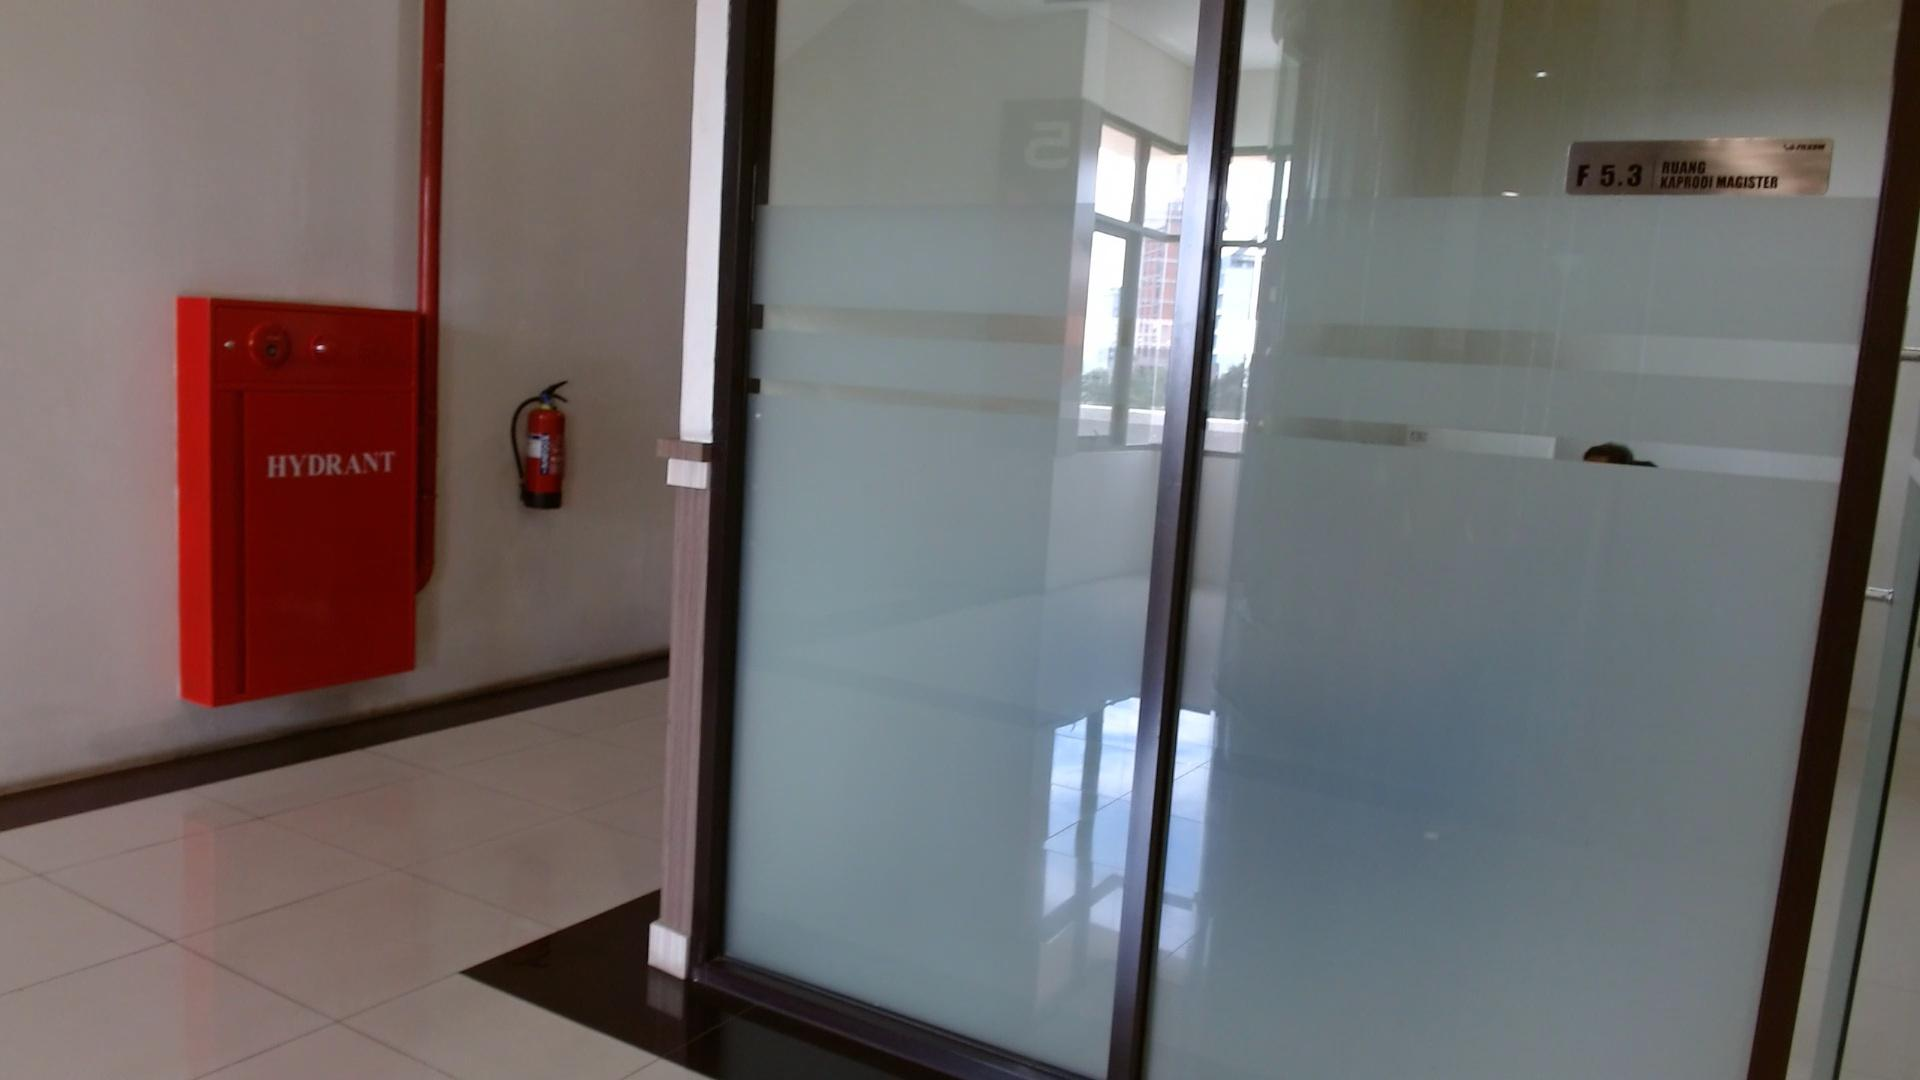plate: (1567, 137, 1834, 198)
